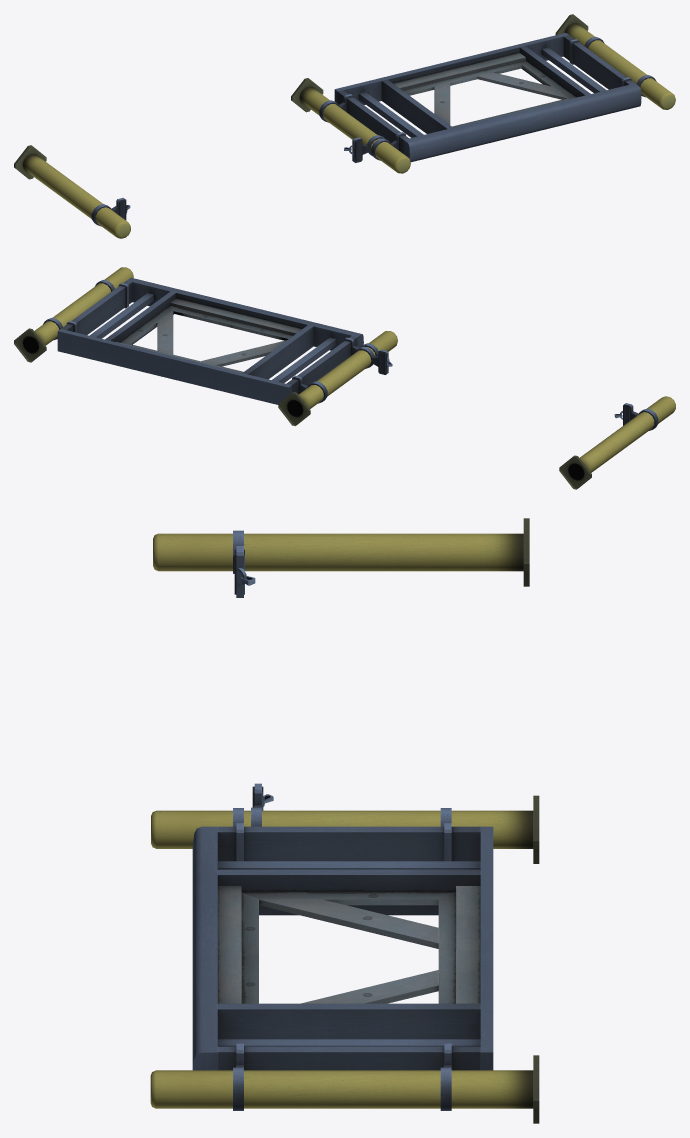
The model's file is nt_2020_street_gate_02_LOD0.obj.
The picture shows the model from 3 angles, top to bottom: view 1: azimuth 30°, elevation 25°; view 2: azimuth 150°, elevation 25°; view 3: azimuth 270°, elevation 25°; orthographic projection. The views are drawn at different scales.
Parts seen in each view (by area): view 1: mtl_nt_2020_street_gate_01; view 2: mtl_nt_2020_street_gate_01; view 3: mtl_nt_2020_street_gate_01.
Boxes of the visible parts, x1,y1,x2,y2 form: mtl_nt_2020_street_gate_01: [14, 14, 675, 238]; mtl_nt_2020_street_gate_01: [14, 267, 675, 489]; mtl_nt_2020_street_gate_01: [150, 518, 539, 1123].
Size of the model in its own units: 362 by 21.76 by 106.
